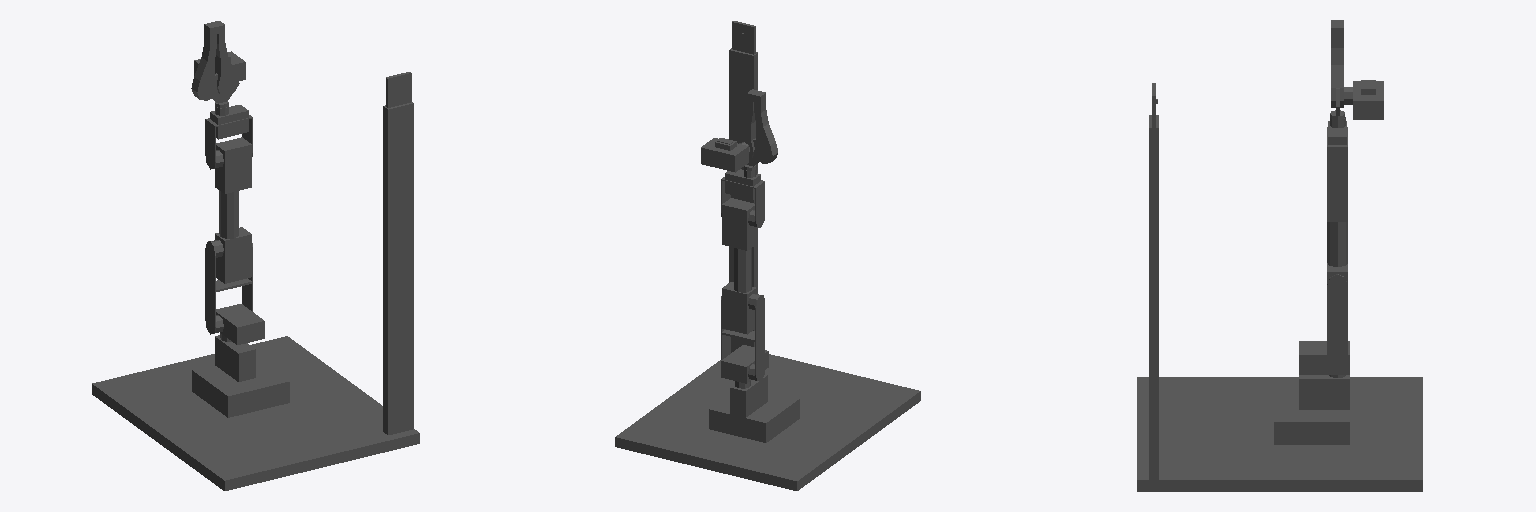
URDF robot description (simple_claw_robot):
<?xml version='1.0'?>
<robot name="simple_claw_robot">

    <!-- Wood Base Link -->
    <link name="Base_Wood">
        <inertial>
            <mass value="1.0"/>  <!-- Mass in kilograms -->
            <origin xyz="0 0 0" rpy="0 0 0"/>  <!-- Center of mass position (relative to link frame) -->
            <inertia ixx="0.01" ixy="0.0" ixz="0.0" iyy="0.01" iyz="0.0" izz="0.01"/>  <!-- Inertia matrix -->
        </inertial>
        <visual>
            <geometry>
                <mesh filename="Base_Wood.obj"/>
            </geometry>
            <material name="dark_gray">
                <color rgba="0.4 0.4 0.4 1.0"/>
            </material>
        </visual>
        <collision>
            <geometry>
                <mesh filename="Base_Wood.obj"/>
            </geometry>
        </collision>
    </link>

    <!-- Metal Base Link -->
    <link name="Base_Metal">
        <inertial>
            <mass value="0.15"/>  <!-- Mass in kilograms -->
            <origin xyz="0 0 0" rpy="0 0 0"/>  <!-- Center of mass position (relative to link frame) -->
            <inertia ixx="0.01" ixy="0.0" ixz="0.0" iyy="0.01" iyz="0.0" izz="0.01"/>  <!-- Inertia matrix -->
        </inertial>
        <visual>
            <geometry>
                <mesh filename="Base_Metal.obj"/>
            </geometry>
            <material name="dark_gray">
                <color rgba="0.4 0.4 0.4 1.0"/>
            </material>
        </visual>
        <collision>
            <geometry>
                <mesh filename="Base_Metal.obj"/>
            </geometry>
        </collision>
    </link>

    <!-- Joint connecting wood to metal base does not move -->
    <joint name="WoodtoMetal" type="fixed">
        <parent link="Base_Wood"/>
        <child link="Base_Metal"/>
        <origin xyz="0 0 0.0225" rpy="0 0 0"/>
    </joint>

    <!-- Servo Base Link -->
    <link name="Servo_Base">
        <inertial>
            <mass value="0.055"/>  <!-- Mass in kilograms -->
            <origin xyz="0 0 0" rpy="0 0 0"/>  <!-- Center of mass position (relative to link frame) -->
            <inertia ixx="0.01" ixy="0.0" ixz="0.0" iyy="0.01" iyz="0.0" izz="0.01"/>  <!-- Inertia matrix -->
        </inertial>
        <visual>
            <geometry>
                <mesh filename="Servo_Base.obj"/>
            </geometry>
            <material name="dark_gray">
                <color rgba="0.4 0.4 0.4 1.0"/>
            </material>
        </visual>
        <collision>
            <geometry>
                <mesh filename="Servo_Base.obj"/>
            </geometry>
        </collision>
    </link>

    <!-- Joint connectiong Metal base to servo does not move -->
    <joint name="MetaltoServo" type="fixed">
        <parent link="Base_Metal"/>
        <child link="Servo_Base"/>
        <origin xyz="0 0 0.041" rpy="0 0 0"/>
    </joint>

    <!-- Servo Shoulder Link -->
    <link name="Servo_Shoulder">
        <inertial>
            <mass value="0.055"/>  <!-- Mass in kilograms -->
            <origin xyz="0 0 0" rpy="0 0 0"/>  <!-- Center of mass position (relative to link frame) -->
            <inertia ixx="0.01" ixy="0.0" ixz="0.0" iyy="0.01" iyz="0.0" izz="0.01"/>  <!-- Inertia matrix -->
        </inertial>
        <visual>
            <geometry>
                <mesh filename="Servo_Shoulder.obj"/>
            </geometry>
            <material name="dark_gray">
                <color rgba="0.4 0.4 0.4 1.0"/>
            </material>
        </visual>
        <collision>
            <geometry>
                <mesh filename="Servo_Shoulder.obj"/>
            </geometry>
        </collision>
    </link>

    <!-- Joint connectiong Base Servo to Shoulder servo -->
    <joint name="BasetoShoulder" type="revolute">
        <parent link="Servo_Base"/>
        <child link="Servo_Shoulder"/>
        <origin xyz="0 0 0.03825" rpy="0 0 0"/>
        <axis xyz="0.0 0.0 1.0"/>
        <limit lower="-1.57" upper="1.57" effort="1.0" velocity="1.0"/>
    </joint>

    <!-- H Bracket Link -->
    <link name="Bracket_H">
        <inertial>
            <mass value="0.044"/>  <!-- Mass in kilograms -->
            <origin xyz="0 0 0" rpy="0 0 0"/>  <!-- Center of mass position (relative to link frame) -->
            <inertia ixx="0.01" ixy="0.0" ixz="0.0" iyy="0.01" iyz="0.0" izz="0.01"/>  <!-- Inertia matrix -->
        </inertial>
        <visual>
            <geometry>
                <mesh filename="Bracket_H.obj"/>
            </geometry>
            <material name="dark_gray">
                <color rgba="0.4 0.4 0.4 1.0"/>
            </material>
        </visual>
        <collision>
            <geometry>
                <mesh filename="Bracket_H.obj"/>
            </geometry>
        </collision>
    </link>

    <!-- Joint connectiong Shoulder Servo to H Bracket pitchs up and down -->
    <joint name="ShouldertoBracket" type="revolute">
        <parent link="Servo_Shoulder"/>
        <child link="Bracket_H"/>
        <origin xyz="0 0 0" rpy="0 0 0"/>
        <axis xyz="1.0 0.0 0.0"/>
        <limit lower="-1.57" upper="1.57" effort="100.0" velocity="0.0"/>
    </joint>

    <!-- Servo Elbow Link -->
    <link name="Servo_Elbow">
        <inertial>
            <mass value="0.055"/>  <!-- Mass in kilograms -->
            <origin xyz="0 0 0" rpy="0 0 0"/>  <!-- Center of mass position (relative to link frame) -->
            <inertia ixx="0.01" ixy="0.0" ixz="0.0" iyy="0.01" iyz="0.0" izz="0.01"/>  <!-- Inertia matrix -->
        </inertial>
        <visual>
            <geometry>
                <mesh filename="Servo_Elbow.obj"/>
            </geometry>
            <material name="dark_gray">
                <color rgba="0.4 0.4 0.4 1.0"/>
            </material>
        </visual>
        <collision>
            <geometry>
                <mesh filename="Servo_Elbow.obj"/>
            </geometry>
        </collision>
    </link>

    <!-- Joint connectiong H Bracket to Elbow pitches -->
    <joint name="BrackettoElbow" type="revolute">
        <parent link="Bracket_H"/>
        <child link="Servo_Elbow"/>
        <origin xyz="0 0 0.105" rpy="0 0 0"/>
        <axis xyz="1.0 0.0 0.0"/>
        <limit lower="-1.57" upper="1.57" effort="1.0" velocity="1.0"/>
    </joint>

    <!-- Forearm Connector Link -->
    <link name="Connector_Forearm">
        <inertial>
            <mass value="0.043"/>  <!-- Mass in kilograms -->
            <origin xyz="0 0 0" rpy="0 0 0"/>  <!-- Center of mass position (relative to link frame) -->
            <inertia ixx="0.01" ixy="0.0" ixz="0.0" iyy="0.01" iyz="0.0" izz="0.01"/>  <!-- Inertia matrix -->
        </inertial>
        <visual>
            <geometry>
                <mesh filename="Connector_Forearm.obj"/>
            </geometry>
            <material name="dark_gray">
                <color rgba="0.4 0.4 0.4 1.0"/>
            </material>
        </visual>
        <collision>
            <geometry>
                <mesh filename="Connector_Forearm.obj"/>
            </geometry>
        </collision>
    </link>

    <!-- Joint connectiong Elbow Servo to Forearm Connector does not move -->
    <joint name="ElbowtoForearm" type="fixed">
        <parent link="Servo_Elbow"/>
        <child link="Connector_Forearm"/>
        <origin xyz="0 0 0.0475" rpy="0 0 0"/>
    </joint>

    <!-- Servo Wrist Pitch Link -->
    <link name="Servo_WristPitch">
        <inertial>
            <mass value="0.055"/>  <!-- Mass in kilograms -->
            <origin xyz="0 0 0" rpy="0 0 0"/>  <!-- Center of mass position (relative to link frame) -->
            <inertia ixx="0.01" ixy="0.0" ixz="0.0" iyy="0.01" iyz="0.0" izz="0.01"/>  <!-- Inertia matrix -->
        </inertial>
        <visual>
            <geometry>
                <mesh filename="Servo_WristPitch.obj"/>
            </geometry>
            <material name="dark_gray">
                <color rgba="0.4 0.4 0.4 1.0"/>
            </material>
        </visual>
        <collision>
            <geometry>
                <mesh filename="Servo_WristPitch.obj"/>
            </geometry>
        </collision>
    </link>

    <!-- Joint connectiong Forearm Connector to Wrist Pitch Servo does not move -->
    <joint name="ForearmtoWristP" type="fixed">
        <parent link="Connector_Forearm"/>
        <child link="Servo_WristPitch"/>
        <origin xyz="0 0 0.0775" rpy="0 0 0"/>
    </joint>

    <!-- U Bracket Link -->
    <link name="Bracket_U">
        <inertial>
            <mass value="0.022"/>  <!-- Mass in kilograms -->
            <origin xyz="0 0 0" rpy="0 0 0"/>  <!-- Center of mass position (relative to link frame) -->
            <inertia ixx="0.01" ixy="0.0" ixz="0.0" iyy="0.01" iyz="0.0" izz="0.01"/>  <!-- Inertia matrix -->
        </inertial>
        <visual>
            <geometry>
                <mesh filename="Bracket_U.obj"/>
            </geometry>
            <material name="dark_gray">
                <color rgba="0.4 0.4 0.4 1.0"/>
            </material>
        </visual>
        <collision>
            <geometry>
                <mesh filename="Bracket_U.obj"/>
            </geometry>
        </collision>
    </link>

    <!-- Joint connectiong Wrist Pitch Servo to U Bracket pitchs up and down -->
    <joint name="WristPitchtoBracket" type="revolute">
        <parent link="Servo_WristPitch"/>
        <child link="Bracket_U"/>
        <origin xyz="0 0 0" rpy="0 0 0"/>
        <axis xyz="1.0 0.0 0.0"/>
        <limit lower="-1.57" upper="1.57" effort="1.0" velocity="1.0"/>
    </joint>

    <!-- Servo Wrist Roll Link -->
    <link name="Servo_WristRoll">
        <inertial>
            <mass value="0.039"/>  <!-- Mass in kilograms -->
            <origin xyz="0 0 0" rpy="0 0 0"/>  <!-- Center of mass position (relative to link frame) -->
            <inertia ixx="0.01" ixy="0.0" ixz="0.0" iyy="0.01" iyz="0.0" izz="0.01"/>  <!-- Inertia matrix -->
        </inertial>
        <visual>
            <geometry>
                <mesh filename="Servo_WristRoll.obj"/>
            </geometry>
            <material name="dark_gray">
                <color rgba="0.4 0.4 0.4 1.0"/>
            </material>
        </visual>
        <collision>
            <geometry>
                <mesh filename="Servo_WristRoll.obj"/>
            </geometry>
        </collision>
    </link>

    <!-- Joint connectiong Wrist Bracket to  does not move relative to parent -->
    <joint name="BrackettoWristRoll" type="fixed">
        <parent link="Bracket_U"/>
        <child link="Servo_WristRoll"/>
        <origin xyz="0 0 0.05" rpy="0 0 0"/>
    </joint>

    <!-- Servo Claw Base Link -->
    <link name="Claw_Base">
        <inertial>
            <mass value="0.027"/>  <!-- Mass in kilograms -->
            <origin xyz="0 0 0" rpy="0 0 0"/>  <!-- Center of mass position (relative to link frame) -->
            <inertia ixx="0.01" ixy="0.0" ixz="0.0" iyy="0.01" iyz="0.0" izz="0.01"/>  <!-- Inertia matrix -->
        </inertial>
        <visual>
            <geometry>
                <mesh filename="Claw_Base.obj"/>
            </geometry>
            <material name="dark_gray">
                <color rgba="0.4 0.4 0.4 1.0"/>
            </material>
        </visual>
        <collision>
            <geometry>
                <mesh filename="Claw_Base.obj"/>
            </geometry>
        </collision>
    </link>

    <!-- Joint connectiong Wrist Roll Servo to Claw Base up and down -->
    <joint name="WristRolltoClawBase" type="revolute">
        <parent link="Servo_WristRoll"/>
        <child link="Claw_Base"/>
        <origin xyz="-0.011 0 0.023" rpy="0 0 0"/>
        <axis xyz="0.0 0.0 1.0"/>
        <limit lower="-1.57" upper="1.57" effort="1.0" velocity="1.0"/>
    </joint>

    <!-- Servo Claw Base Link -->
    <link name="Claw_Servo">
        <inertial>
            <mass value="0.039"/>  <!-- Mass in kilograms -->
            <origin xyz="0 0 0" rpy="0 0 0"/>  <!-- Center of mass position (relative to link frame) -->
            <inertia ixx="0.01" ixy="0.0" ixz="0.0" iyy="0.01" iyz="0.0" izz="0.01"/>  <!-- Inertia matrix -->
        </inertial>
        <visual>
            <geometry>
                <mesh filename="Claw_Servo.obj"/>
            </geometry>
            <material name="dark_gray">
                <color rgba="0.4 0.4 0.4 1.0"/>
            </material>
        </visual>
        <collision>
            <geometry>
                <mesh filename="Claw_Servo.obj"/>
            </geometry>
        </collision>
    </link>

    <!-- Joint connectiong Claw Base to Claw Servo does not move -->
    <joint name="ClawBasetoClawServo" type="fixed">
        <parent link="Claw_Base"/>
        <child link="Claw_Servo"/>
        <origin xyz="0.005 0.031 0.03" rpy="0 0 0"/>
    </joint>

    <!-- Servo Claw Right Link -->
    <link name="Claw_Right">
        <inertial>
            <mass value="0.025"/>  <!-- Mass in kilograms -->
            <origin xyz="0 0 0" rpy="0 0 0"/>  <!-- Center of mass position (relative to link frame) -->
            <inertia ixx="0.01" ixy="0.0" ixz="0.0" iyy="0.01" iyz="0.0" izz="0.01"/>  <!-- Inertia matrix -->
        </inertial>
        <visual>
            <geometry>
                <mesh filename="Claw_Right.obj"/>
            </geometry>
            <material name="dark_gray">
                <color rgba="0.4 0.4 0.4 1.0"/>
            </material>
        </visual>
        <collision>
            <geometry>
                <mesh filename="Claw_Right.obj"/>
            </geometry>
        </collision>
    </link>

    <!-- Joint connectiong Claw Base to Claw Servo does not move -->
    <joint name="ClawBasetoClawRight" type="revolute">
        <parent link="Claw_Base"/>
        <child link="Claw_Right"/>
        <origin xyz="-0.025 0.0 0.03" rpy="0 0 0"/>
        <axis xyz="0.0 1.0 0.0"/>
        <limit lower="-1.57" upper="1.57" effort="1.0" velocity="1.0"/>
    </joint>

    <!-- Servo Claw Left Link -->
    <link name="Claw_Left">
        <inertial>
            <mass value="0.025"/>  <!-- Mass in kilograms -->
            <origin xyz="0 0 0" rpy="0 0 0"/>  <!-- Center of mass position (relative to link frame) -->
            <inertia ixx="0.01" ixy="0.0" ixz="0.0" iyy="0.01" iyz="0.0" izz="0.01"/>  <!-- Inertia matrix -->
        </inertial>
        <visual>
            <geometry>
                <mesh filename="Claw_Left.obj"/>
            </geometry>
            <material name="dark_gray">
                <color rgba="0.4 0.4 0.4 1.0"/>
            </material>
        </visual>
        <collision>
            <geometry>
                <mesh filename="Claw_Left.obj"/>
            </geometry>
        </collision>
    </link>

    <!-- Joint connectiong Claw Base to Claw Servo does not move -->
    <joint name="ClawBasetoClawLeft" type="revolute">
        <parent link="Claw_Base"/>
        <child link="Claw_Left"/>
        <origin xyz="0.005 0.0 0.03" rpy="0 0 0"/>
        <axis xyz="0.0 1.0 0.0"/>
        <limit lower="-1.57" upper="1.57" effort="1.0" velocity="1.0"/>
    </joint>

    <!-- Servo Claw Left Link -->
    <link name="Claw_PadL">
        <inertial>
            <mass value="0.001"/>  <!-- Mass in kilograms -->
            <origin xyz="0 0 0" rpy="0 0 0"/>  <!-- Center of mass position (relative to link frame) -->
            <inertia ixx="0.01" ixy="0.0" ixz="0.0" iyy="0.01" iyz="0.0" izz="0.01"/>  <!-- Inertia matrix -->
        </inertial>
        <visual>
            <geometry>
                <mesh filename="Claw_PadL.obj"/>
            </geometry>
            <material name="dark_gray">
                <color rgba="0.4 0.4 0.4 1.0"/>
            </material>
        </visual>
        <collision>
            <geometry>
                <mesh filename="Claw_PadL.obj"/>
            </geometry>
        </collision>
    </link>

    <!-- Joint connectiong Claw Base to Claw Servo does not move -->
    <joint name="ClawLefttoClawPad" type="fixed">
        <parent link="Claw_Left"/>
        <child link="Claw_PadL"/>
        <origin xyz="-0.0145 0.0 0.08" rpy="0 0 0"/>
    </joint>

    <!-- Servo Claw Left Link -->
    <link name="Claw_PadR">
        <inertial>
            <mass value="0.001"/>  <!-- Mass in kilograms -->
            <origin xyz="0 0 0" rpy="0 0 0"/>  <!-- Center of mass position (relative to link frame) -->
            <inertia ixx="0.01" ixy="0.0" ixz="0.0" iyy="0.01" iyz="0.0" izz="0.01"/>  <!-- Inertia matrix -->
        </inertial>
        <visual>
            <geometry>
                <mesh filename="Claw_PadR.obj"/>
            </geometry>
            <material name="dark_gray">
                <color rgba="0.4 0.4 0.4 1.0"/>
            </material>
        </visual>
        <collision>
            <geometry>
                <mesh filename="Claw_PadR.obj"/>
            </geometry>
        </collision>
    </link>

    <!-- Joint connectiong Claw Base to Claw Servo does not move -->
    <joint name="ClawRighttoClawPad" type="fixed">
        <parent link="Claw_Right"/>
        <child link="Claw_PadR"/>
        <origin xyz="0.0145 0.0 0.08" rpy="0 0 0"/>
    </joint>

    <!-- Servo Claw Left Link -->
    <link name="Lidar_Base">
        <inertial>
            <mass value="0.001"/>  <!-- Mass in kilograms -->
            <origin xyz="0 0 0" rpy="0 0 0"/>  <!-- Center of mass position (relative to link frame) -->
            <inertia ixx="0.01" ixy="0.0" ixz="0.0" iyy="0.01" iyz="0.0" izz="0.01"/>  <!-- Inertia matrix -->
        </inertial>
        <visual>
            <geometry>
                <mesh filename="Lidar_Base.obj"/>
            </geometry>
            <material name="dark_gray">
                <color rgba="0.4 0.4 0.4 1.0"/>
            </material>
        </visual>
        <collision>
            <geometry>
                <mesh filename="Lidar_Base.obj"/>
            </geometry>
        </collision>
    </link>

    <!-- Joint connectiong Claw Base to Claw Servo does not move -->
    <joint name="ClawServotoLidarBase" type="fixed">
        <parent link="Claw_Servo"/>
        <child link="Lidar_Base"/>
        <origin xyz="0.0125 0.005 0.0125" rpy="0 0 0"/>
    </joint>

    <!-- Servo Claw Left Link -->
    <link name="Lidar_Lense">
        <inertial>
            <mass value="0.001"/>  <!-- Mass in kilograms -->
            <origin xyz="0 0 0" rpy="0 0 0"/>  <!-- Center of mass position (relative to link frame) -->
            <inertia ixx="0.01" ixy="0.0" ixz="0.0" iyy="0.01" iyz="0.0" izz="0.01"/>  <!-- Inertia matrix -->
        </inertial>
        <visual>
            <geometry>
                <mesh filename="Lidar_Lense.obj"/>
            </geometry>
            <material name="dark_gray">
                <color rgba="0.4 0.4 0.4 1.0"/>
            </material>
        </visual>
        <collision>
            <geometry>
                <mesh filename="Lidar_Lense.obj"/>
            </geometry>
        </collision>
    </link>

    <!-- Joint connectiong Claw Base to Claw Servo does not move -->
    <joint name="LidarBasetoLidarLense" type="fixed">
        <parent link="Lidar_Base"/>
        <child link="Lidar_Lense"/>
        <origin xyz="0.0 0.0 0.0075" rpy="0 0 0"/>
    </joint>

    <!-- Servo Claw Left Link -->
    <link name="Camera_Arm">
        <inertial>
            <mass value="0.123"/>  <!-- Mass in kilograms -->
            <origin xyz="0 0 0" rpy="0 0 0"/>  <!-- Center of mass position (relative to link frame) -->
            <inertia ixx="0.01" ixy="0.0" ixz="0.0" iyy="0.01" iyz="0.0" izz="0.01"/>  <!-- Inertia matrix -->
        </inertial>
        <visual>
            <geometry>
                <mesh filename="Camera_Arm.obj"/>
            </geometry>
            <material name="dark_gray">
                <color rgba="0.4 0.4 0.4 1.0"/>
            </material>
        </visual>
        <collision>
            <geometry>
                <mesh filename="Camera_Arm.obj"/>
            </geometry>
        </collision>
    </link>

    <!-- Joint connectiong Claw Base to Claw Servo does not move -->
    <joint name="BaseWoodtoCameraArm" type="revolute">
        <parent link="Base_Wood"/>
        <child link="Camera_Arm"/>
        <origin xyz="0.123 -0.215 0.0075" rpy="0 0 0"/>
        <axis xyz="0.0 0.0 1.0"/>
        <limit lower="-1.57" upper="1.57" effort="1.0" velocity="1.0"/>
    </joint>

    <!-- Servo Claw Left Link -->
    <link name="Camera_Mount">
        <inertial>
            <mass value="0.001"/>  <!-- Mass in kilograms -->
            <origin xyz="0 0 0" rpy="0 0 0"/>  <!-- Center of mass position (relative to link frame) -->
            <inertia ixx="0.01" ixy="0.0" ixz="0.0" iyy="0.01" iyz="0.0" izz="0.01"/>  <!-- Inertia matrix -->
        </inertial>
        <visual>
            <geometry>
                <mesh filename="Camera_Mount.obj"/>
            </geometry>
            <material name="dark_gray">
                <color rgba="0.4 0.4 0.4 1.0"/>
            </material>
        </visual>
        <collision>
            <geometry>
                <mesh filename="Camera_Mount.obj"/>
            </geometry>
        </collision>
    </link>

    <!-- Joint connectiong Claw Base to Claw Servo does not move -->
    <joint name="CameraArmtoCameraMount" type="revolute">
        <parent link="Camera_Arm"/>
        <child link="Camera_Mount"/>
        <origin xyz="0.0 0.0 0.45" rpy="0 0 0"/>
        <axis xyz="1.0 0.0 0.0"/>
        <limit lower="-1.57" upper="1.57" effort="1.0" velocity="1.0"/>
    </joint>

    <!-- Servo Claw Left Link -->
    <link name="Camera">
        <inertial>
            <mass value="0.001"/>  <!-- Mass in kilograms -->
            <origin xyz="0 0 0" rpy="0 0 0"/>  <!-- Center of mass position (relative to link frame) -->
            <inertia ixx="0.01" ixy="0.0" ixz="0.0" iyy="0.01" iyz="0.0" izz="0.01"/>  <!-- Inertia matrix -->
        </inertial>
        <visual>
            <geometry>
                <mesh filename="Camera.obj"/>
            </geometry>
            <material name="dark_gray">
                <color rgba="0.4 0.4 0.4 1.0"/>
            </material>
        </visual>
        <collision>
            <geometry>
                <mesh filename="Camera.obj"/>
            </geometry>
        </collision>
    </link>

    <!-- Joint connectiong Claw Base to Claw Servo does not move -->
    <joint name="CameraMounttoCamera" type="fixed">
        <parent link="Camera_Mount"/>
        <child link="Camera"/>
        <origin xyz="0.0 0.0025 0.03" rpy="0 0 0"/>
    </joint>

</robot>

--- What the picture shows (computed from the rendered views, not written in the file) ---
Views: 3 orthographic renders of the robot side by side, from view 1: azimuth 30°, elevation 25°; view 2: azimuth 150°, elevation 25°; view 3: azimuth 270°, elevation 25°.
Robot: simple_claw_robot — 21 links, 20 joints (9 revolute, 11 fixed); root link Base_Wood; default pose: every joint at zero.
Links seen in each view (by area): view 1: Base_Wood, Camera_Arm, Base_Metal, Servo_WristPitch, Servo_Elbow, Bracket_H, Servo_Shoulder, Servo_Base, Claw_Right, Claw_Left, Servo_WristRoll, Connector_Forearm (+2 smaller); view 2: Base_Wood, Base_Metal, Camera_Arm, Servo_WristPitch, Servo_Elbow, Bracket_H, Servo_Base, Claw_Right, Servo_Shoulder, Claw_Servo, Servo_WristRoll, Connector_Forearm (+3 smaller); view 3: Base_Wood, Camera_Arm, Base_Metal, Bracket_H, Servo_Base, Claw_Servo, Servo_Shoulder, Bracket_U, Claw_Left, Connector_Forearm, Servo_WristPitch.
Boxes of the visible links, bbox=[...] form: Base_Wood: bbox=[92, 336, 419, 490]; Camera_Arm: bbox=[383, 102, 413, 434]; Base_Metal: bbox=[192, 357, 289, 417]; Servo_WristPitch: bbox=[215, 137, 251, 193]; Servo_Elbow: bbox=[212, 227, 251, 283]; Bracket_H: bbox=[205, 241, 252, 334]; Servo_Shoulder: bbox=[216, 304, 264, 344]; Servo_Base: bbox=[215, 333, 255, 381]; Claw_Right: bbox=[191, 23, 216, 100]; Claw_Left: bbox=[213, 21, 237, 95]; Servo_WristRoll: bbox=[210, 105, 248, 139]; Connector_Forearm: bbox=[219, 190, 238, 238]; Base_Wood: bbox=[615, 354, 920, 490]; Base_Metal: bbox=[709, 391, 799, 442]; Camera_Arm: bbox=[729, 48, 757, 352]; Servo_WristPitch: bbox=[722, 198, 756, 250]; Servo_Elbow: bbox=[722, 282, 758, 334]; Bracket_H: bbox=[721, 295, 764, 381]; Servo_Base: bbox=[730, 375, 767, 417]; Claw_Right: bbox=[754, 91, 777, 163]; Servo_Shoulder: bbox=[721, 345, 768, 383]; Claw_Servo: bbox=[701, 138, 749, 172]; Servo_WristRoll: bbox=[725, 168, 760, 199]; Connector_Forearm: bbox=[734, 248, 751, 292]; Base_Wood: bbox=[1137, 377, 1422, 491]; Camera_Arm: bbox=[1149, 115, 1158, 479]; Base_Metal: bbox=[1274, 389, 1349, 444]; Bracket_H: bbox=[1327, 274, 1347, 374]; Servo_Base: bbox=[1299, 375, 1349, 409]; Claw_Servo: bbox=[1344, 81, 1383, 119]; Servo_Shoulder: bbox=[1299, 341, 1349, 374]; Bracket_U: bbox=[1327, 127, 1347, 196]; Claw_Left: bbox=[1331, 25, 1343, 107]; Connector_Forearm: bbox=[1327, 222, 1347, 266]; Servo_WristPitch: bbox=[1327, 187, 1347, 221].
Bounding box of the posed robot: 0.285 × 0.335 × 0.5272 m (x, y, z).
Meshes: 21 distinct files referenced, 21 mesh visuals loaded (21 OBJ).